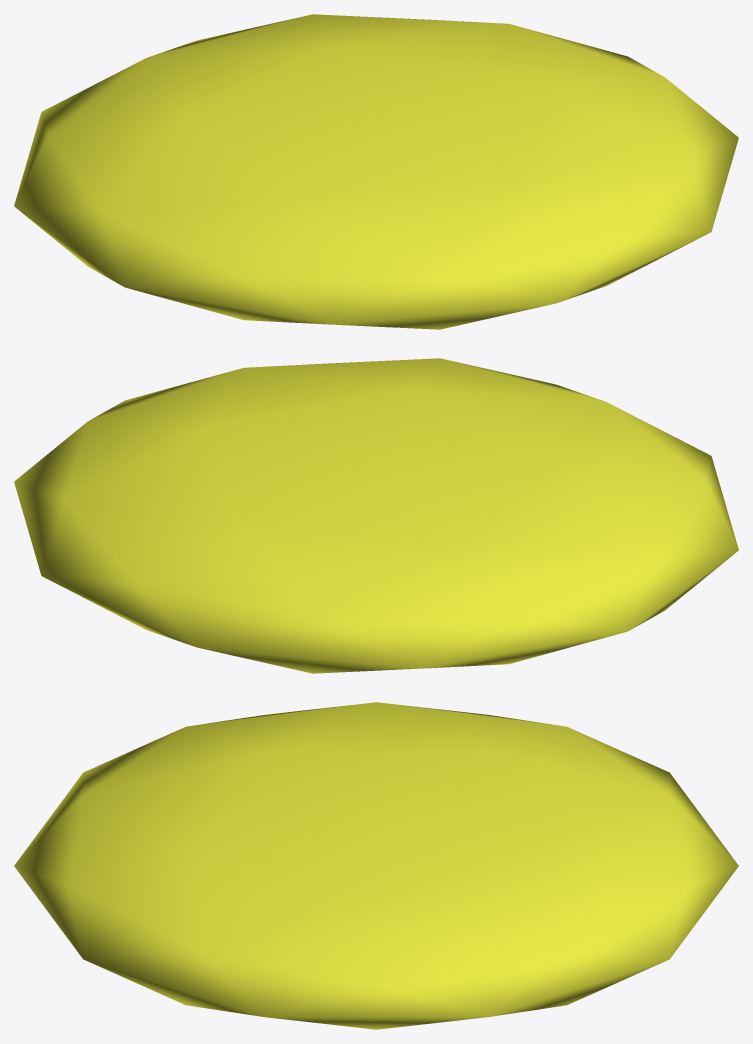
File: characterballMesh.glb
The picture shows the model from 3 angles, top to bottom: view 1: azimuth 30°, elevation 25°; view 2: azimuth 150°, elevation 25°; view 3: azimuth 270°, elevation 25°; orthographic projection.
Parts seen in each view (by area): view 1: characterball; view 2: characterball; view 3: characterball.
Boxes of the visible parts, x1,y1,x2,y2 form: characterball: (14,14,738,329); characterball: (14,358,738,673); characterball: (14,702,738,1029).
Bounding box in the file's own units: 7.4 × 1.24 × 7.5.
